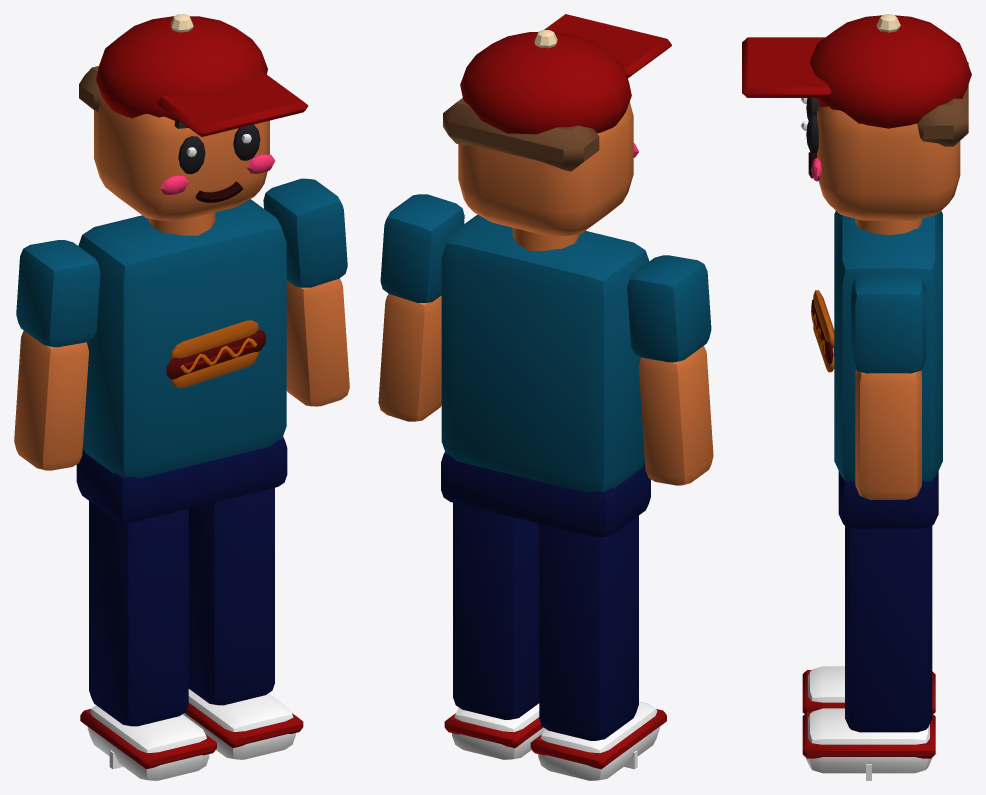
File: CustomerA.obj
3 views of the same model, side by side, from view 1: azimuth 30°, elevation 25°; view 2: azimuth 150°, elevation 25°; view 3: azimuth 270°, elevation 25° (orthographic).
Visible parts, largest first — view 1: CustomerA; view 2: CustomerA; view 3: CustomerA.
Boxes of the visible parts, x1,y1,x2,y2 form: CustomerA: [14, 14, 349, 780]; CustomerA: [378, 14, 713, 780]; CustomerA: [742, 14, 971, 780].
Size of the model in its own units: 2.4 by 5.31 by 1.52.
